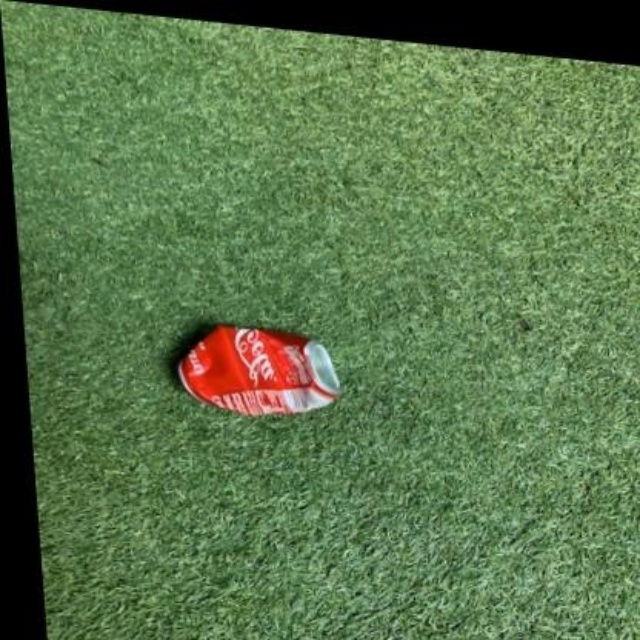trash: (178, 325, 338, 414)
